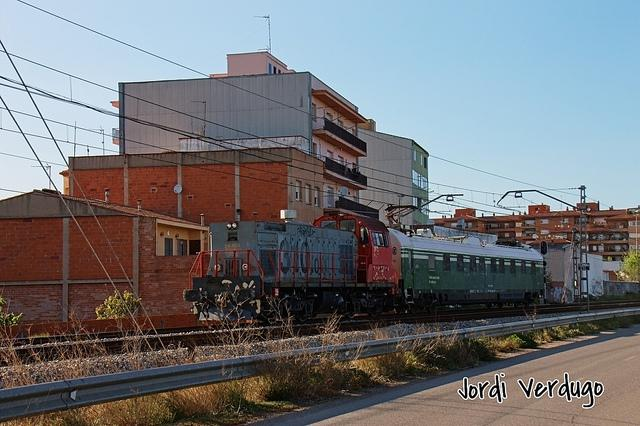Train: (183, 208, 545, 325)
